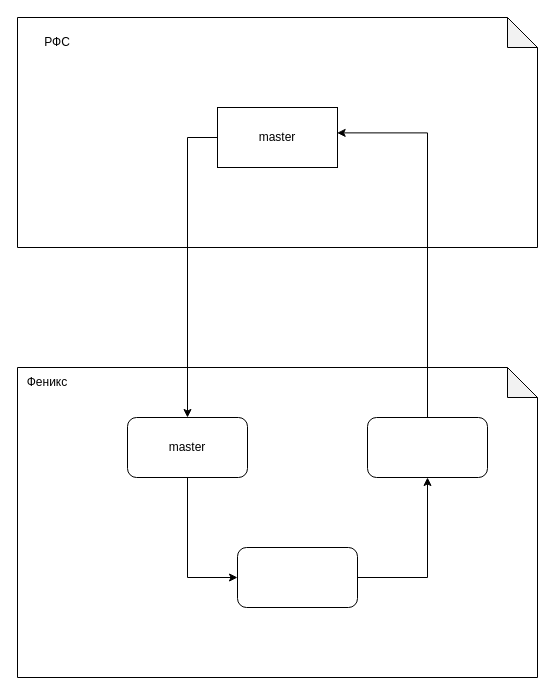
The diagram is 555 pixels wide and 695 high, and some of its shapes have lost their labels. Here are the shapes that lost their labels. From the top down, the box of each, then its label:
(366, 416, 488, 478): relese
(236, 546, 358, 608): RFC-123
